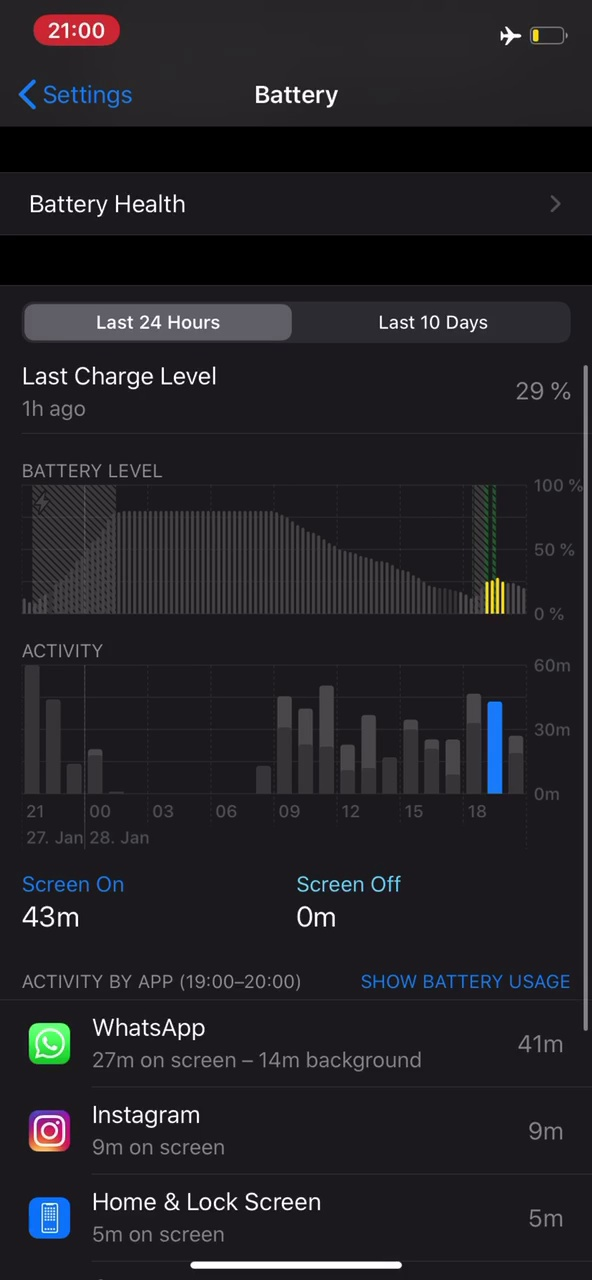activity: (4, 960, 309, 997)
app: (17, 1009, 570, 1075), (13, 1100, 566, 1166), (19, 1186, 572, 1252)
